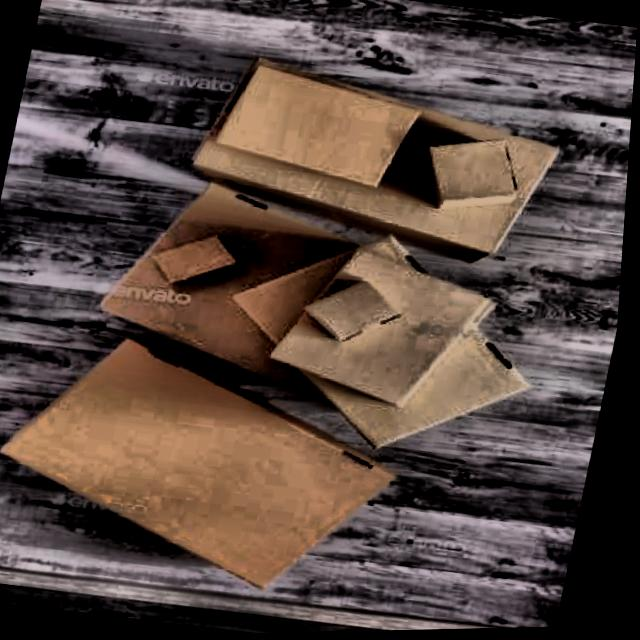Cardbox: (64, 164, 576, 476), (0, 296, 434, 625), (166, 38, 610, 289)
